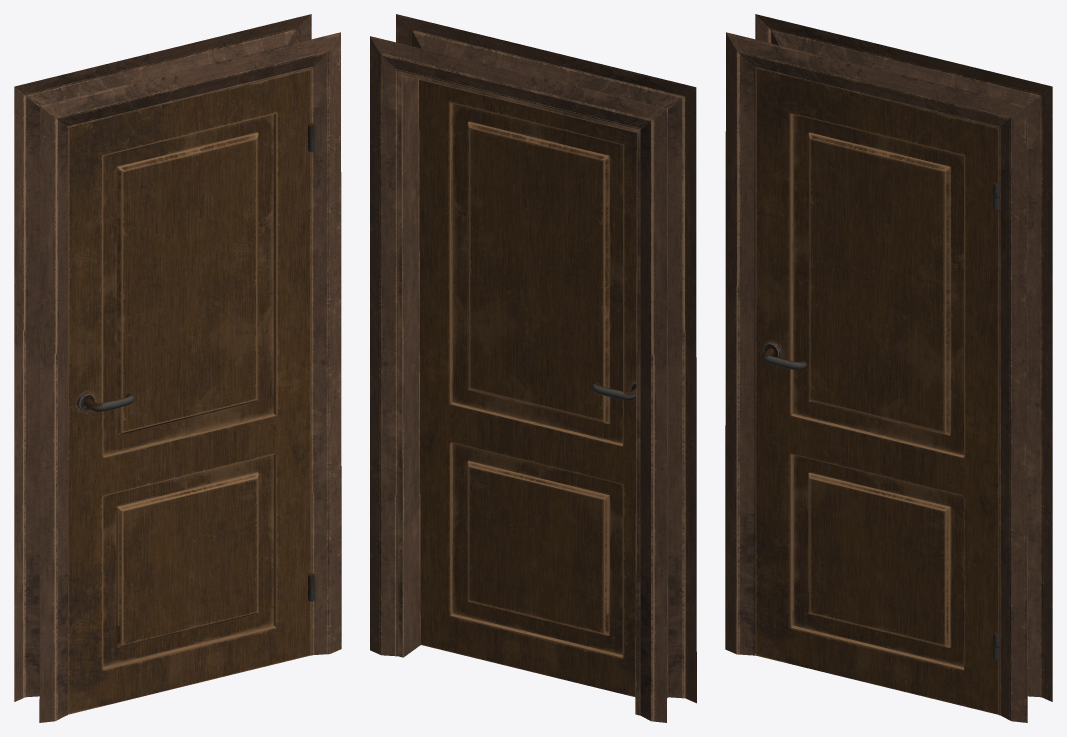
File: wooden_door.glb
3 renders of one model, left to right at view 1: azimuth 30°, elevation 25°; view 2: azimuth 150°, elevation 25°; view 3: azimuth 330°, elevation 25°, orthographic.
Visible parts, largest first — view 1: Object_2, Object_3; view 2: Object_2, Object_3; view 3: Object_2, Object_3.
Boxes of the visible parts, x1,y1,x2,y2 form: Object_2: [68, 69, 314, 714]; Object_3: [14, 14, 341, 722]; Object_2: [419, 80, 636, 696]; Object_3: [370, 14, 696, 722]; Object_2: [756, 69, 999, 714]; Object_3: [725, 14, 1052, 722].
Bounding box in the file's own units: 3.19 × 6.22 × 0.7591.
2 materials, 2 textured.
